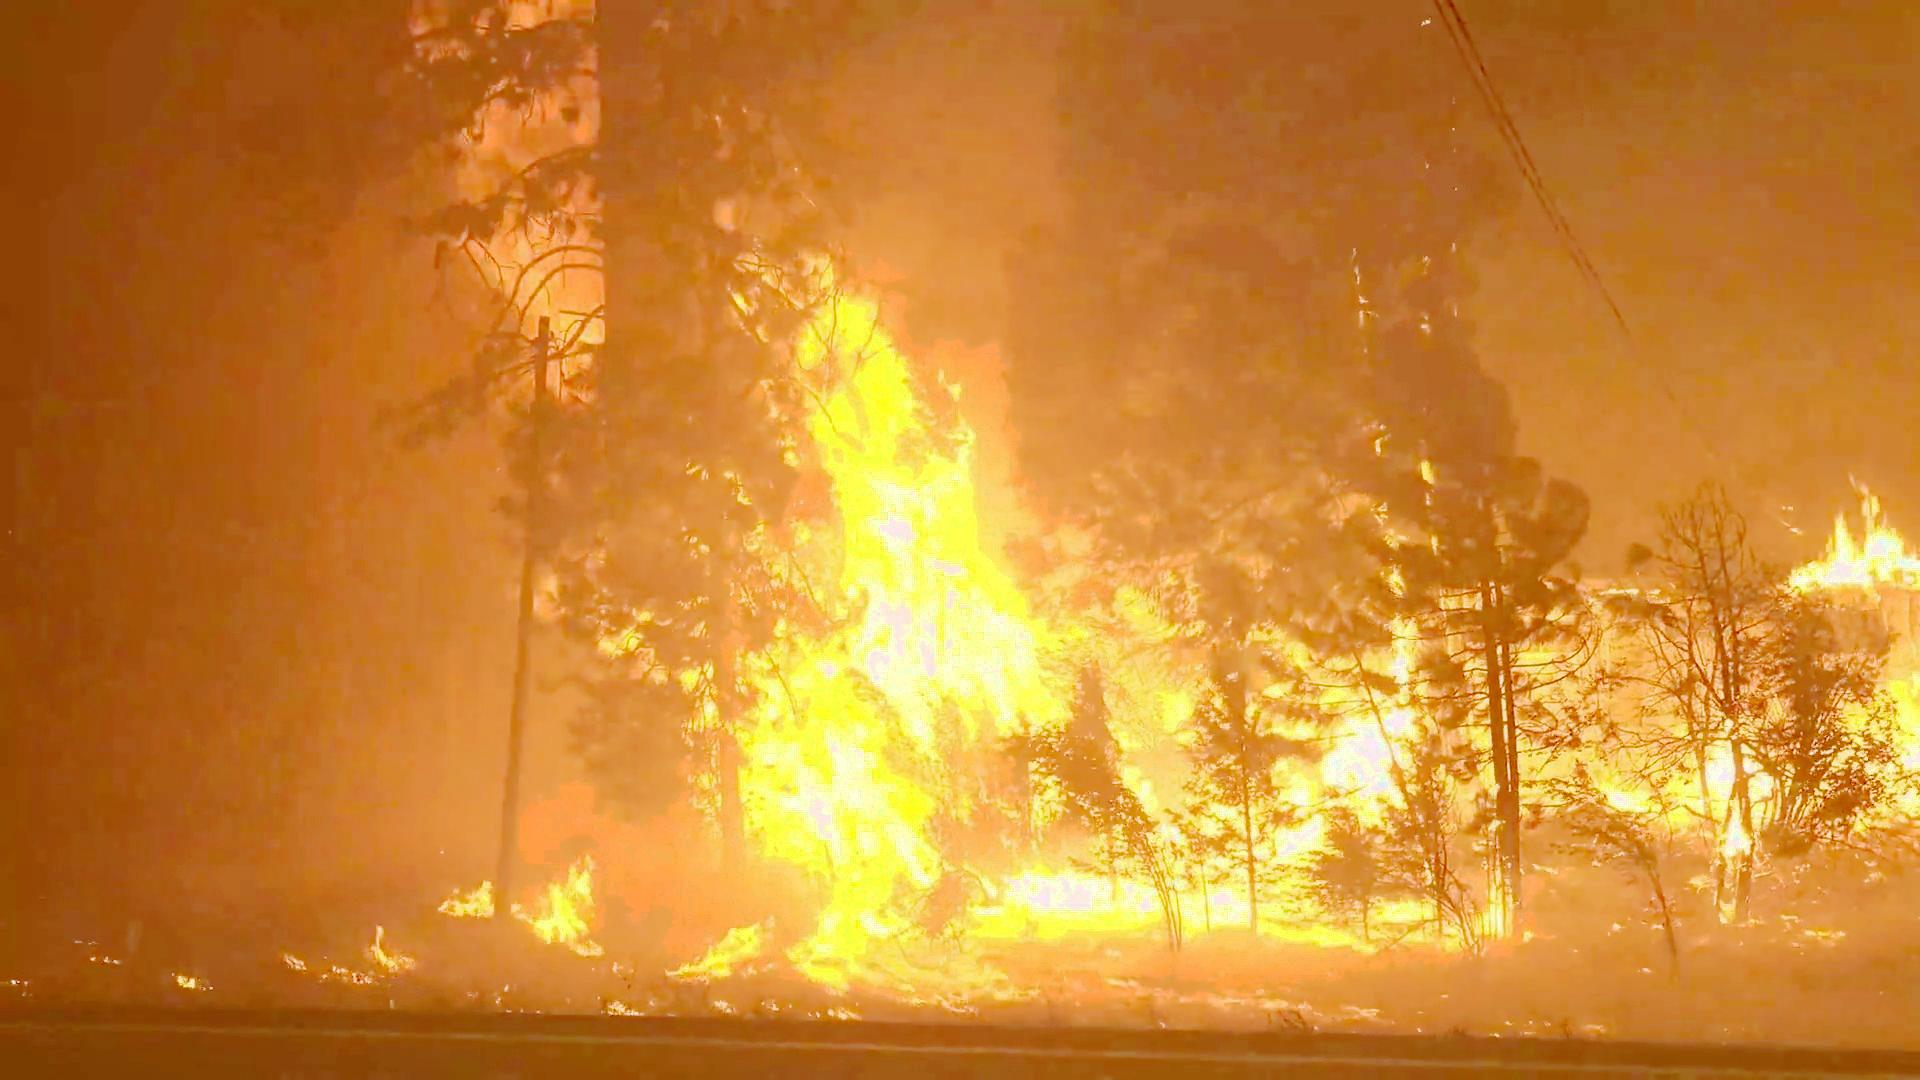fire: (771, 575, 1171, 931), (764, 270, 1052, 762), (1160, 622, 1485, 930), (1755, 477, 1920, 608)
